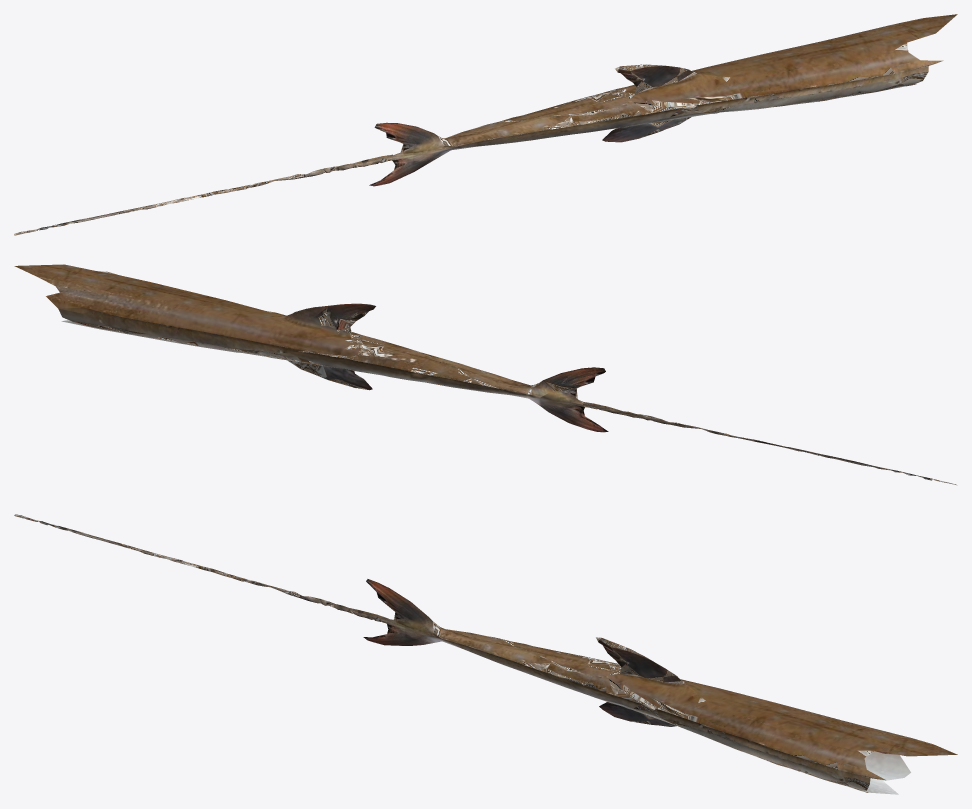
File: cornet_b.glb
The picture shows the model from 3 angles, top to bottom: view 1: azimuth 30°, elevation 25°; view 2: azimuth 150°, elevation 25°; view 3: azimuth 330°, elevation 25°; orthographic projection.
Visible parts, largest first — view 1: cornet_b; view 2: cornet_b; view 3: cornet_b.
Part boxes in pixels (bbox=[...]): cornet_b: bbox=[14, 14, 957, 235]; cornet_b: bbox=[14, 264, 956, 485]; cornet_b: bbox=[14, 514, 957, 794].
Bounding box in the file's own units: 0.6365 × 0.0527 × 0.0522.
1 material, 1 textured.
